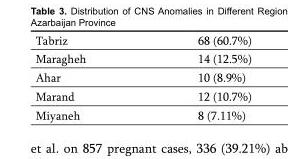table: (34, 34, 250, 122)
table column: (141, 34, 250, 122), (34, 34, 141, 122)
table row: (34, 68, 250, 87), (34, 87, 250, 106), (34, 50, 250, 68), (34, 34, 250, 50), (34, 106, 250, 122)
